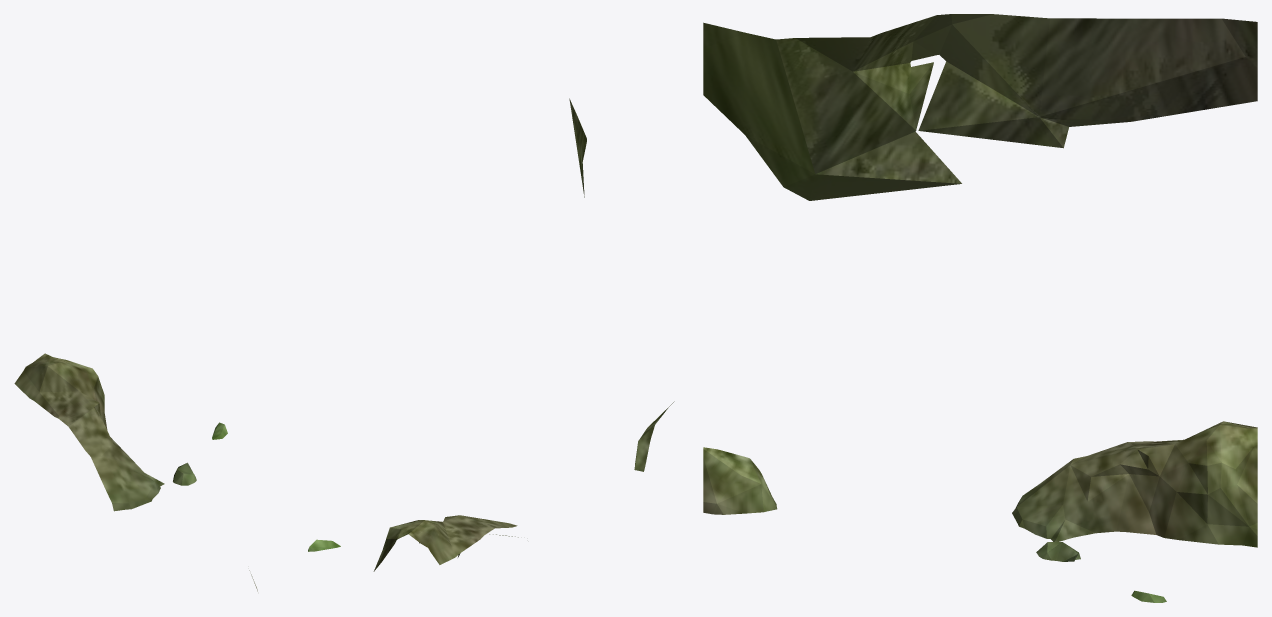
3 renders of one model, left to right at view 1: azimuth 30°, elevation 25°; view 2: azimuth 150°, elevation 25°; view 3: azimuth 270°, elevation 25°, orthographic. The views are drawn at different scales.
Bounding box in the file's own units: 1.25 × 2.95 × 2.95.
Materials: 1 (1 with a texture image).
